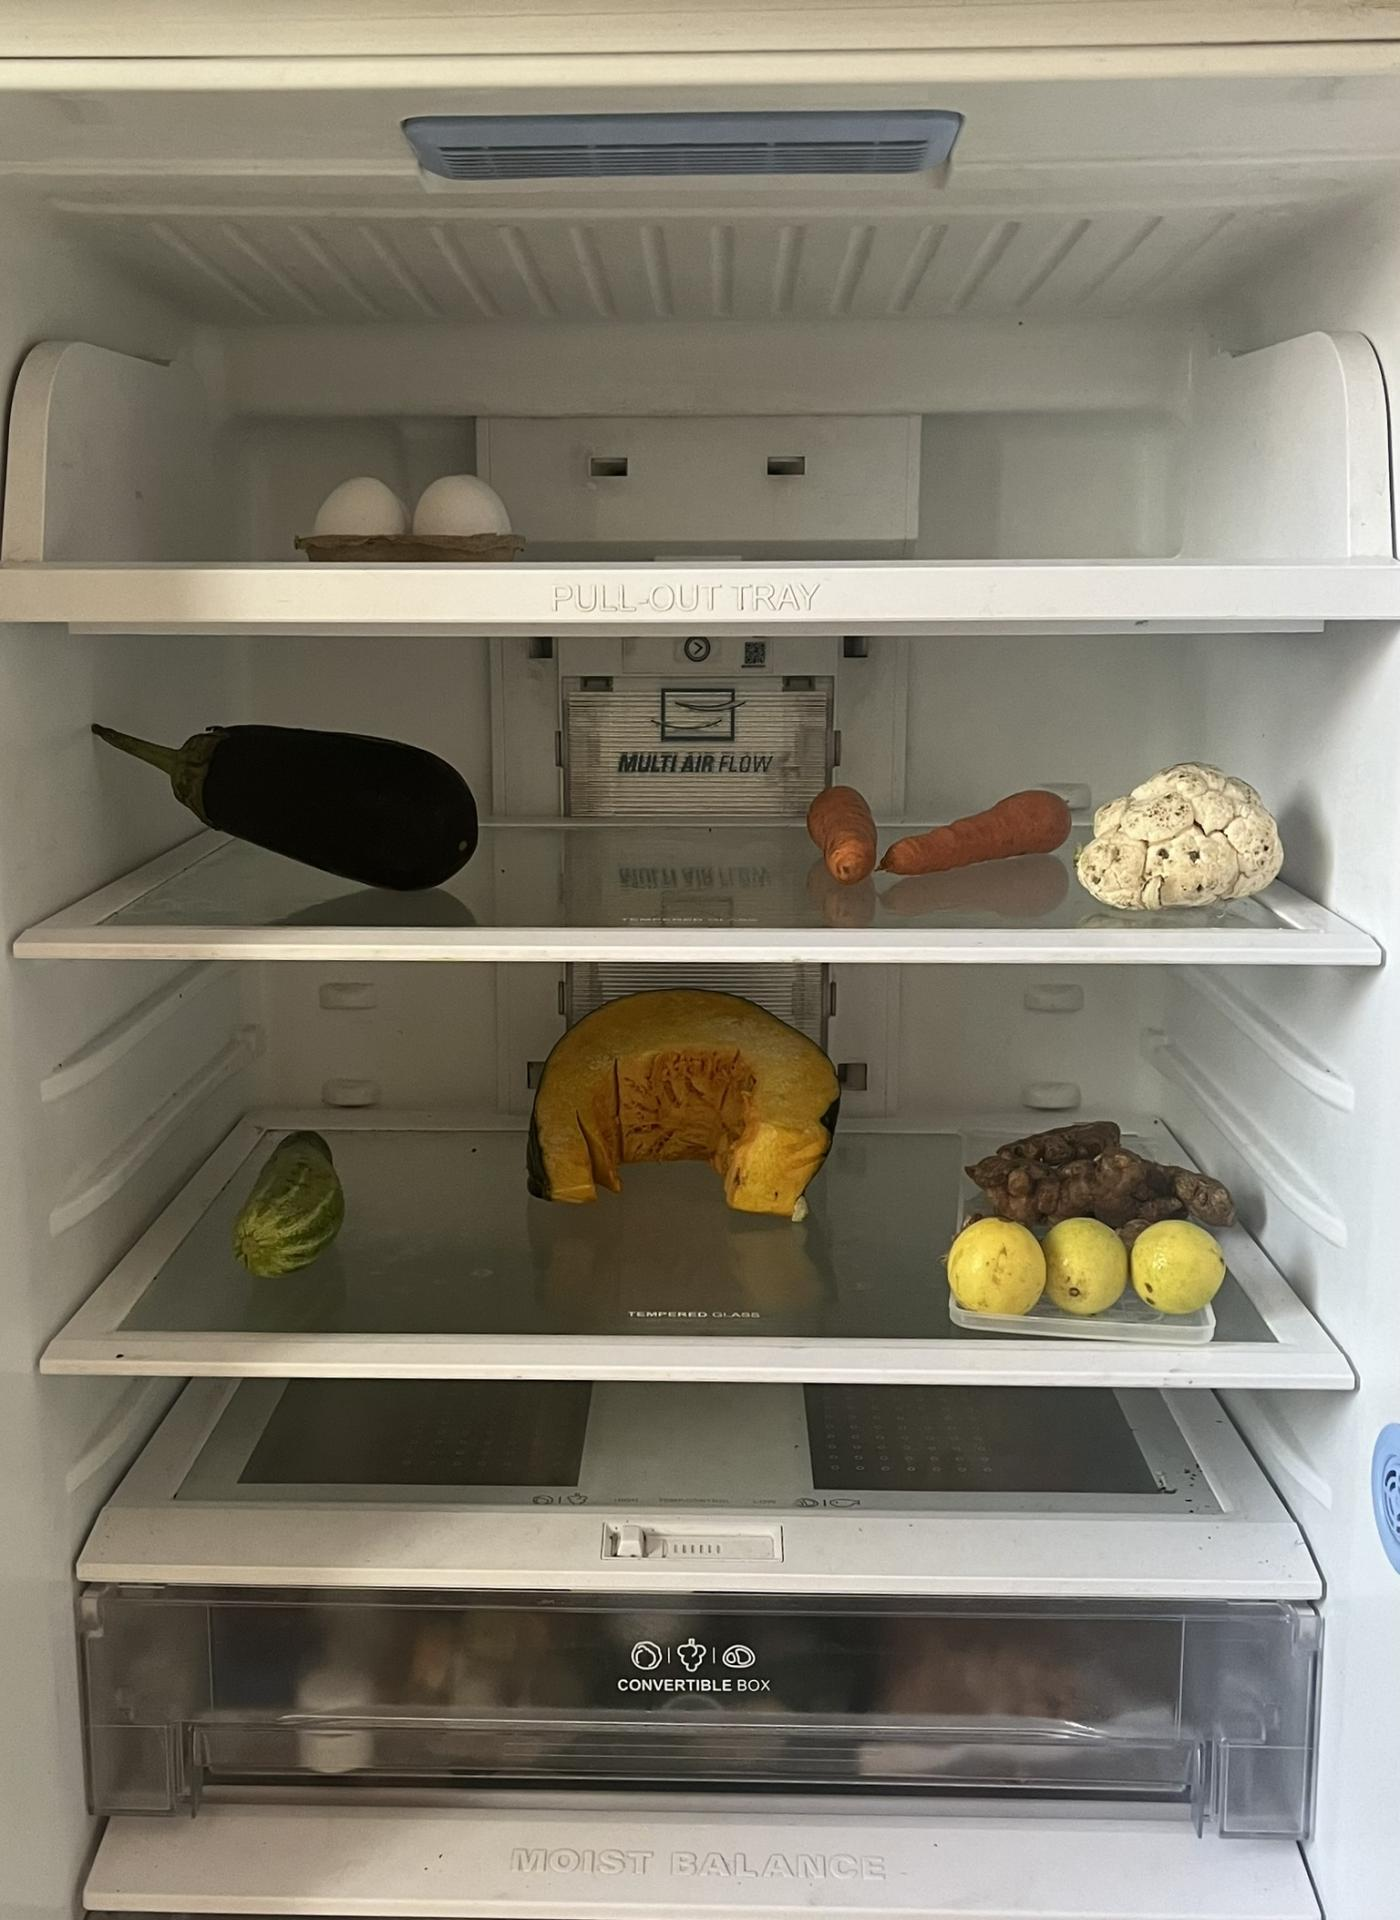brinjal: (133, 716, 488, 881)
carrots: (869, 789, 1072, 880), (805, 783, 878, 888)
cauliflower: (1073, 766, 1282, 906)
cucumber: (231, 1133, 352, 1285)
egg: (301, 474, 514, 562)
ginger: (951, 1117, 1249, 1239)
lemon: (938, 1213, 1233, 1310)
pumpkin: (520, 990, 841, 1215)
